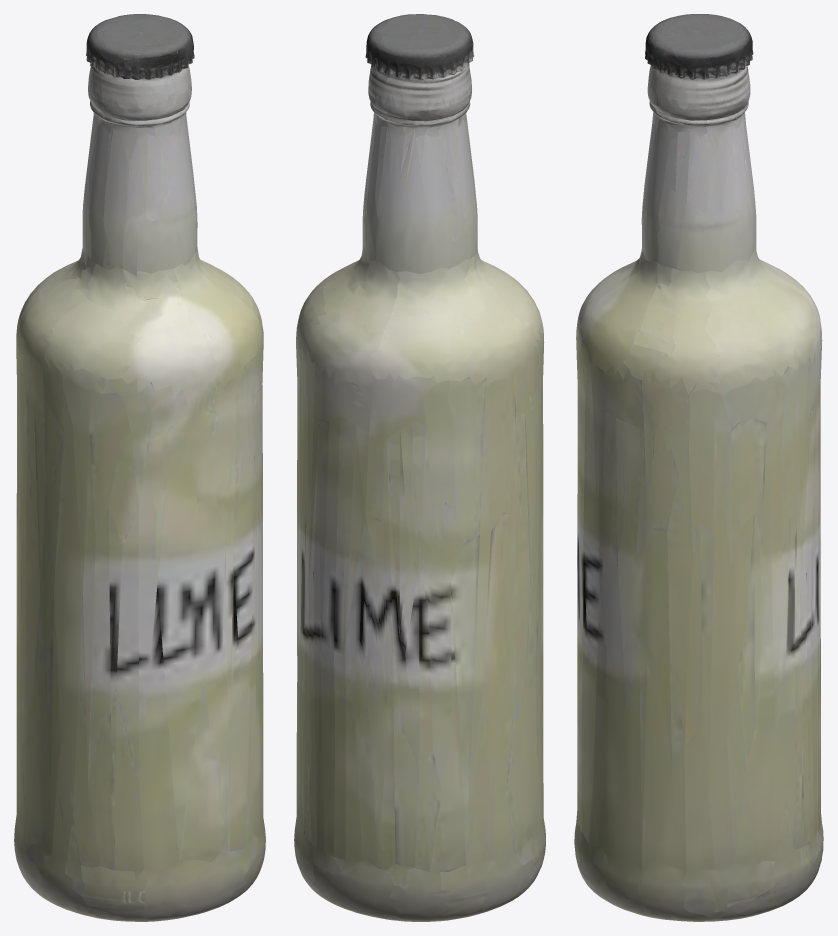
File: bottle-lime.glb
3 views of the same model, side by side, from view 1: azimuth 30°, elevation 25°; view 2: azimuth 150°, elevation 25°; view 3: azimuth 270°, elevation 25° (orthographic).
Size of the model in its own units: 0.5082 by 1.9 by 0.5075.
1 material, 1 textured.
